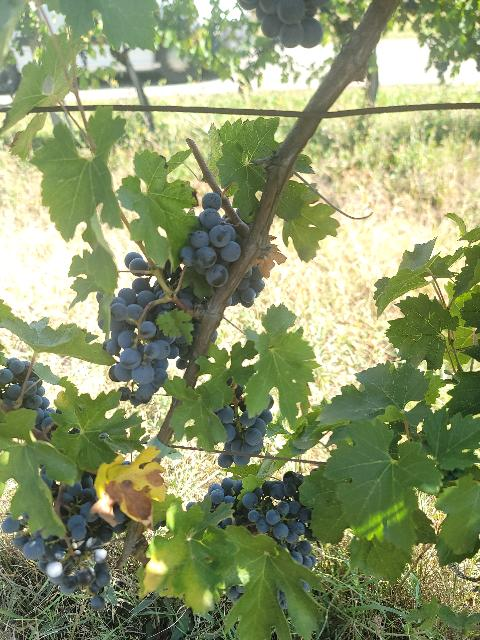grapes: (2, 465, 129, 610), (104, 278, 179, 406), (243, 471, 316, 569), (180, 192, 241, 288), (216, 400, 272, 469), (148, 291, 149, 292)
